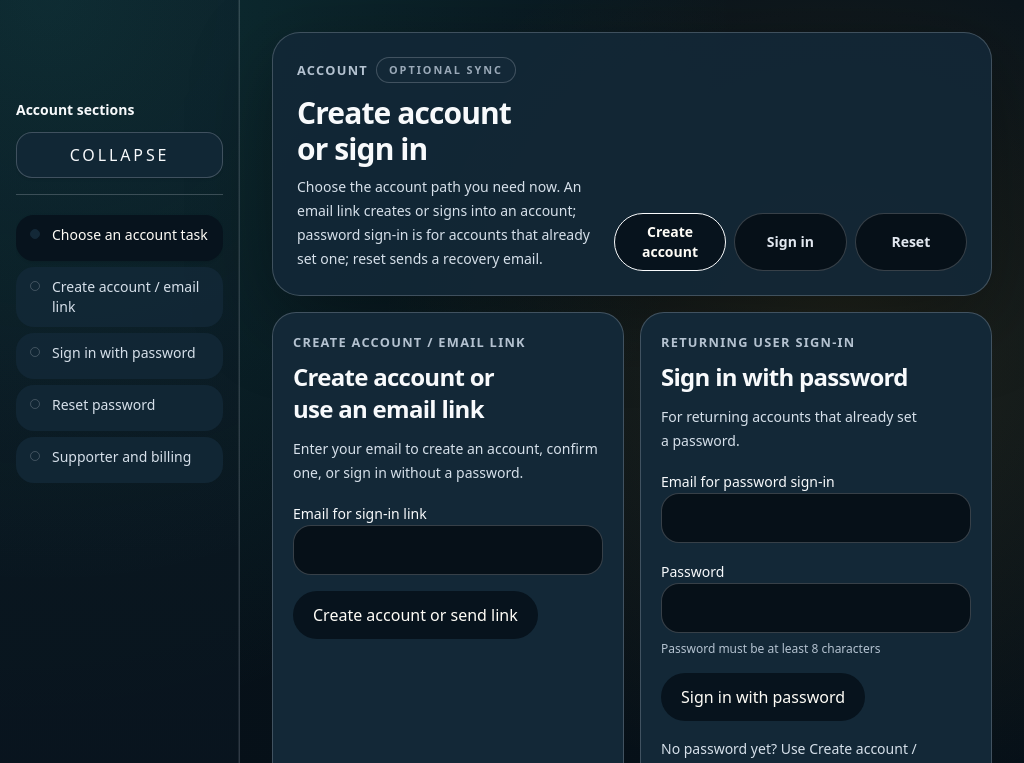
Test: AccountPagePanel › shows inline validation before sending an email sign-in link
In the field labelled "Email for sign-in link": (448, 550) [293, 524, 603, 574], type "not-an-email"
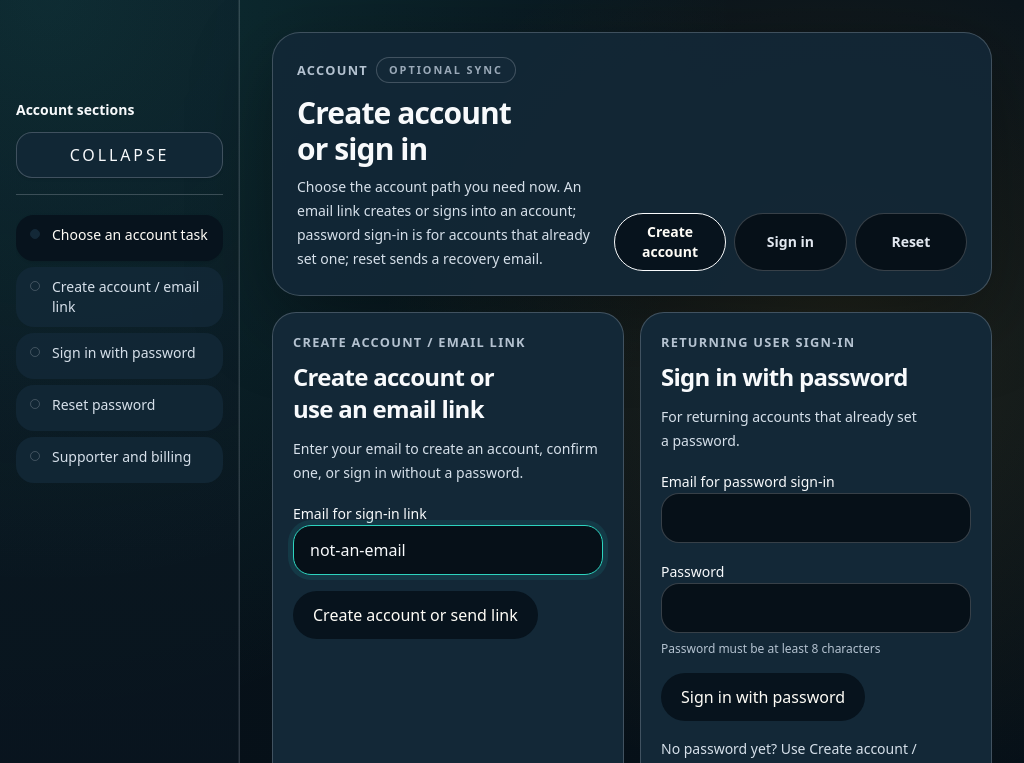
Click the button "Create account or send link": (415, 614) [293, 590, 538, 638]
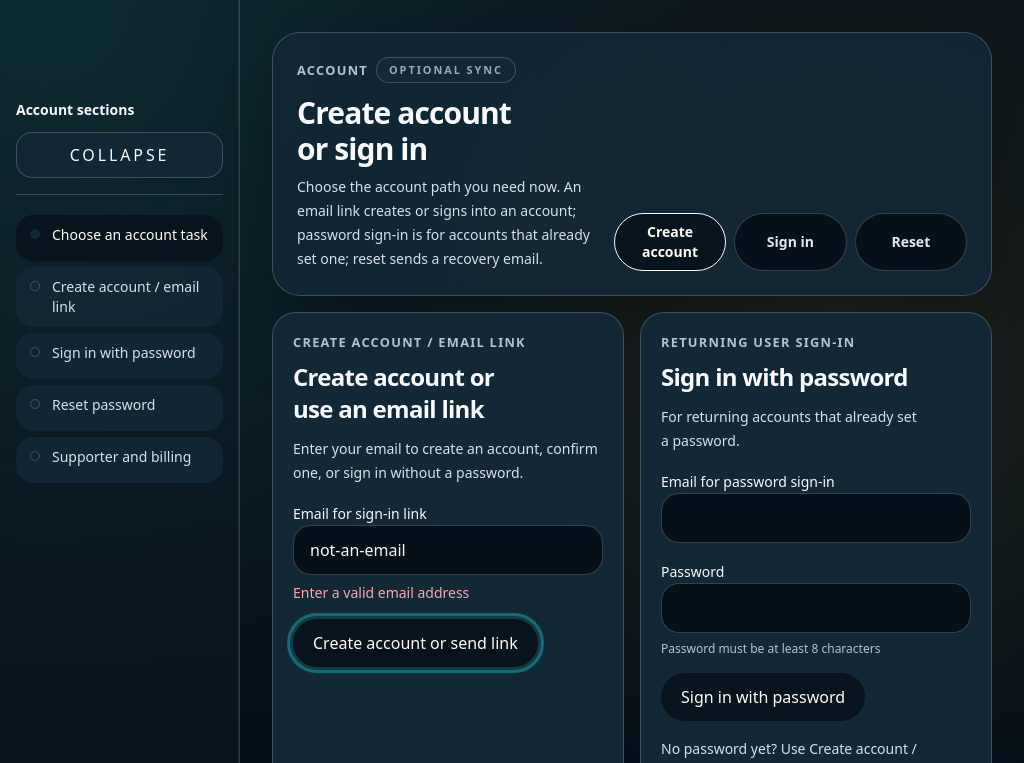
Result: the text "Enter a valid email address" is shown at [293, 582, 469, 602]
